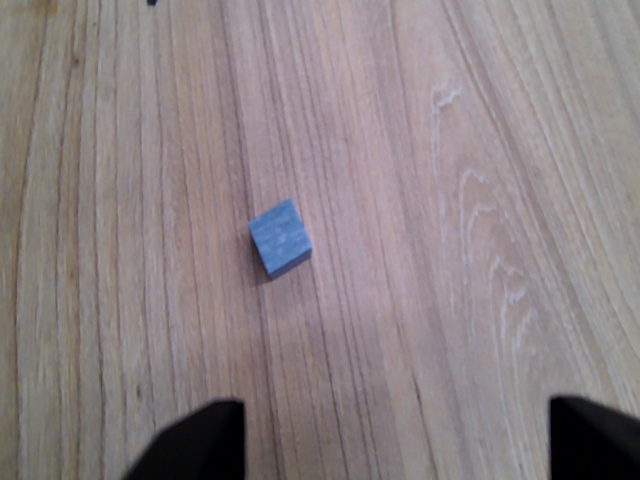stone: (244, 196, 315, 283)
